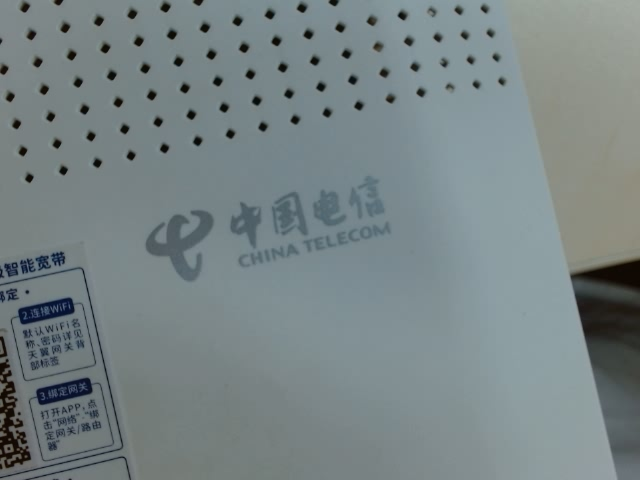ChinaTelecom1: (126, 172, 418, 285)
